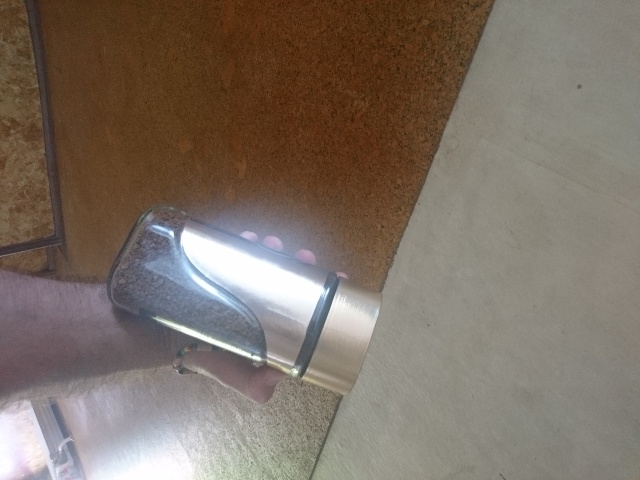Nescafe Gold 225g: (103, 202, 386, 400)
